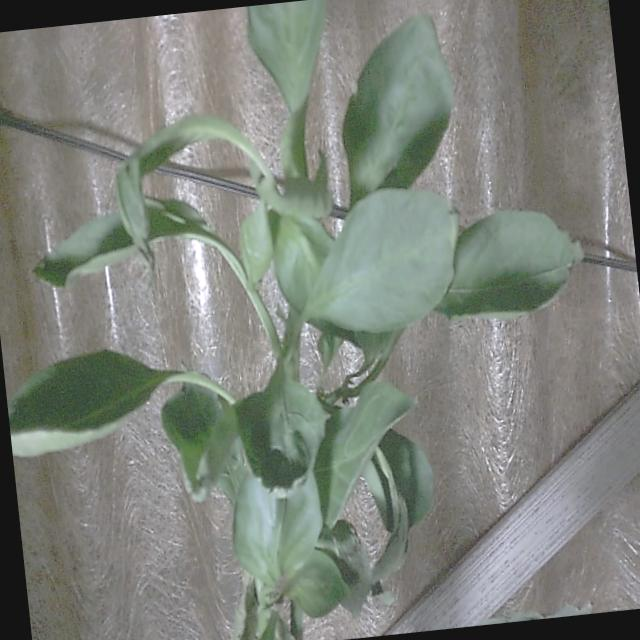Leaf: (303, 189, 457, 333), (342, 14, 452, 201), (8, 350, 174, 457), (435, 211, 582, 318), (314, 382, 415, 527), (234, 366, 325, 490), (233, 472, 321, 593), (247, 0, 325, 112), (34, 213, 136, 287), (379, 430, 433, 526), (283, 550, 348, 617), (239, 201, 272, 283)
